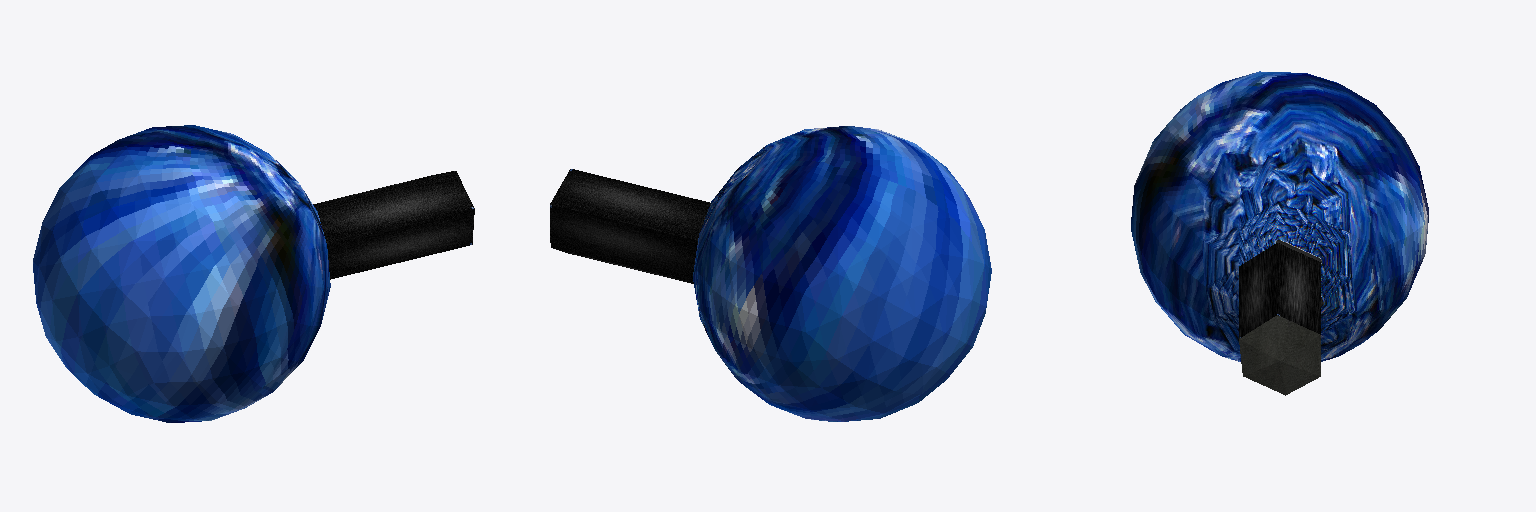
The picture shows the model from 3 angles: view 1: azimuth 30°, elevation 25°; view 2: azimuth 150°, elevation 25°; view 3: azimuth 270°, elevation 25°; orthographic projection.
Size of the model in its own units: 2.25 by 1.42 by 1.43.
Materials: 4 (3 with a texture image).